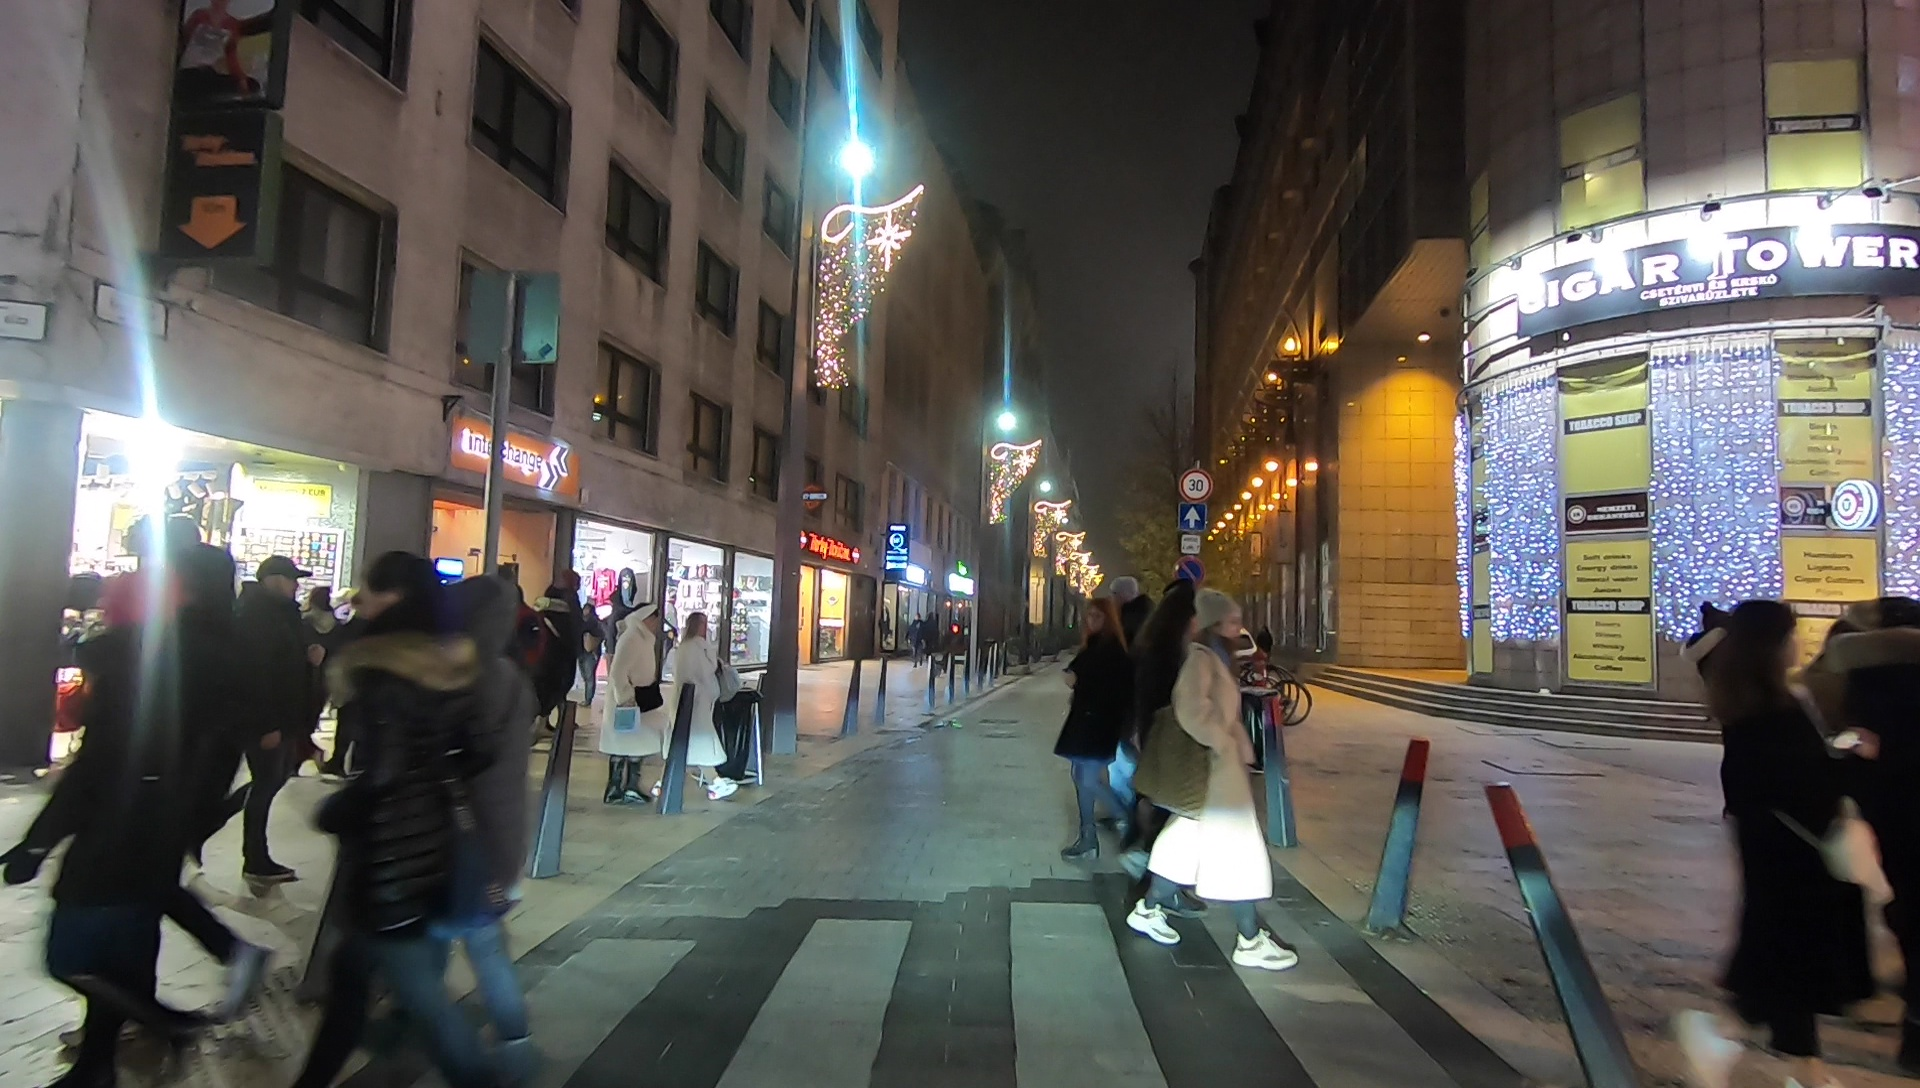person: (1680, 595, 1848, 1088), (34, 569, 182, 1088), (319, 549, 460, 1088), (123, 510, 271, 995), (1126, 595, 1308, 976), (1821, 591, 1920, 1031), (208, 554, 317, 882), (1054, 589, 1145, 865), (664, 602, 743, 802), (601, 606, 656, 804)
